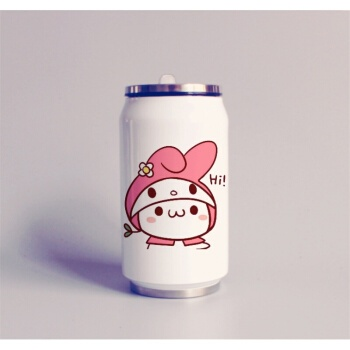Metal: (118, 83, 231, 299)
